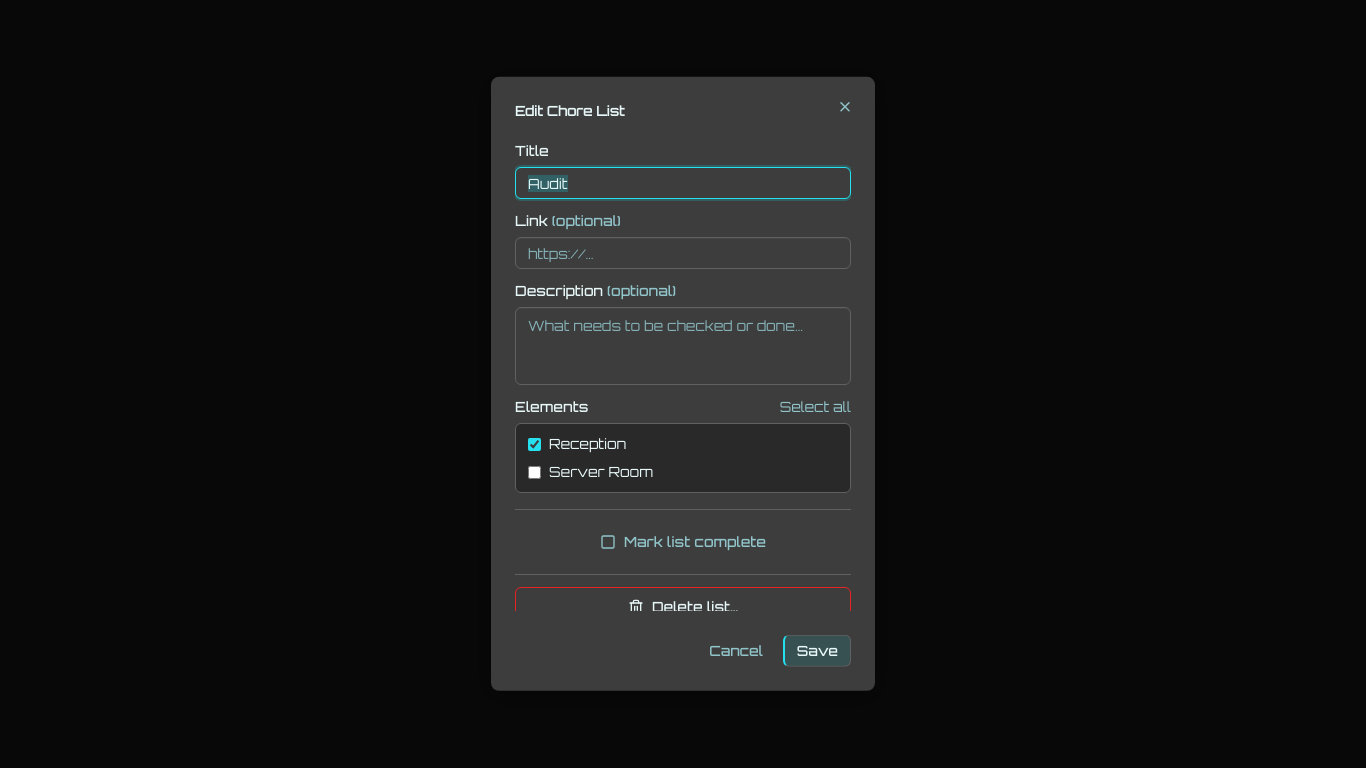
EditChoreListDialog – save › shows an error message when editChoreList rejects
Click the button "Save": (817, 651) [783,635,851,667]
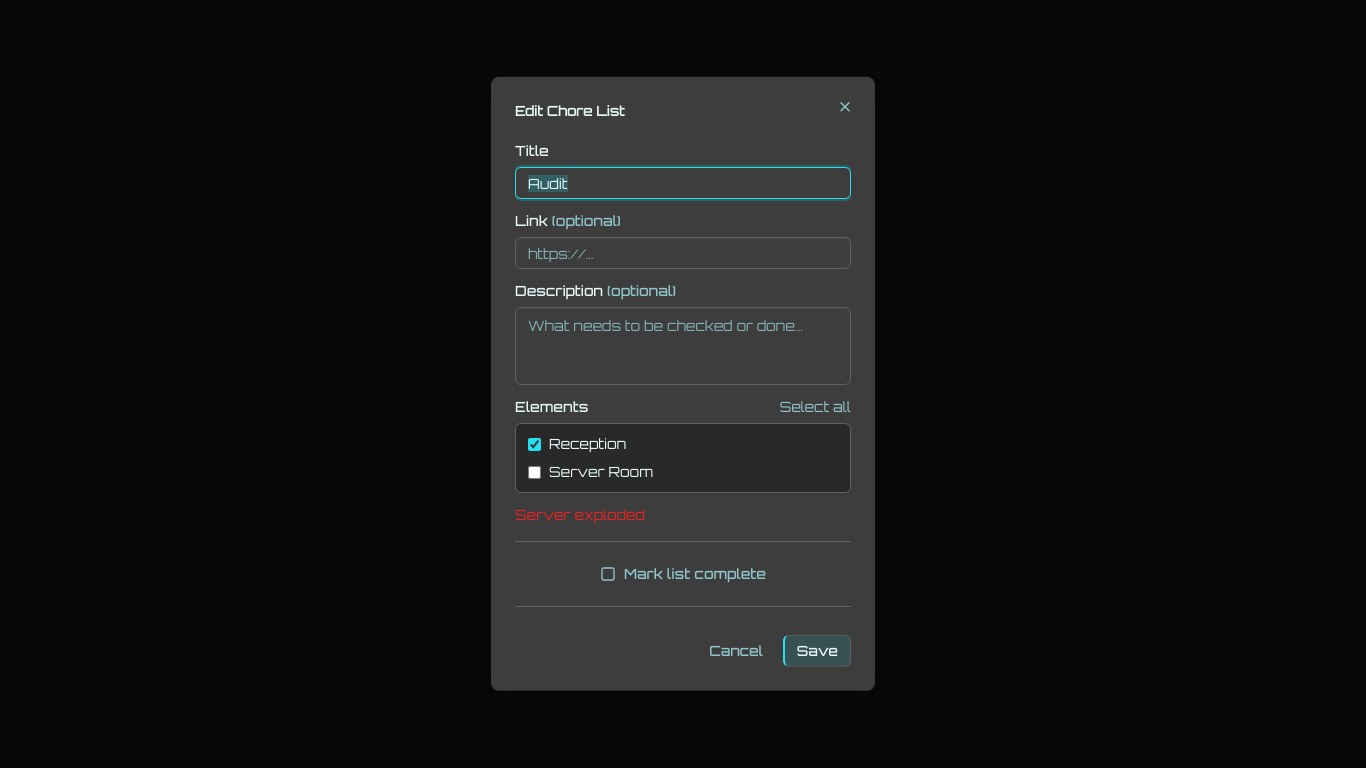
Result: the text "Server exploded" is shown at [515,506,645,523]
